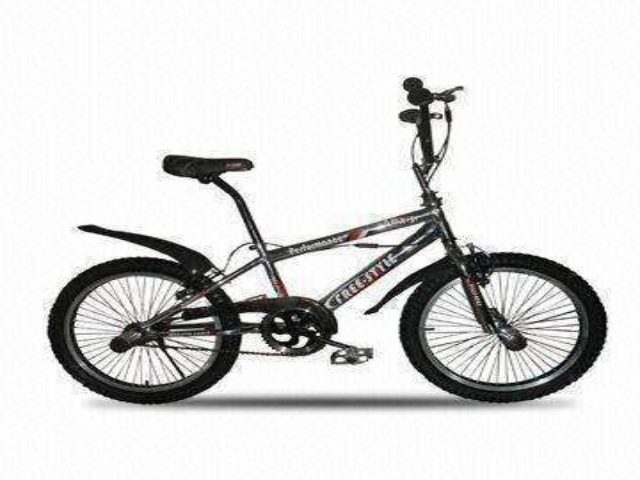bike: (43, 65, 615, 411)
